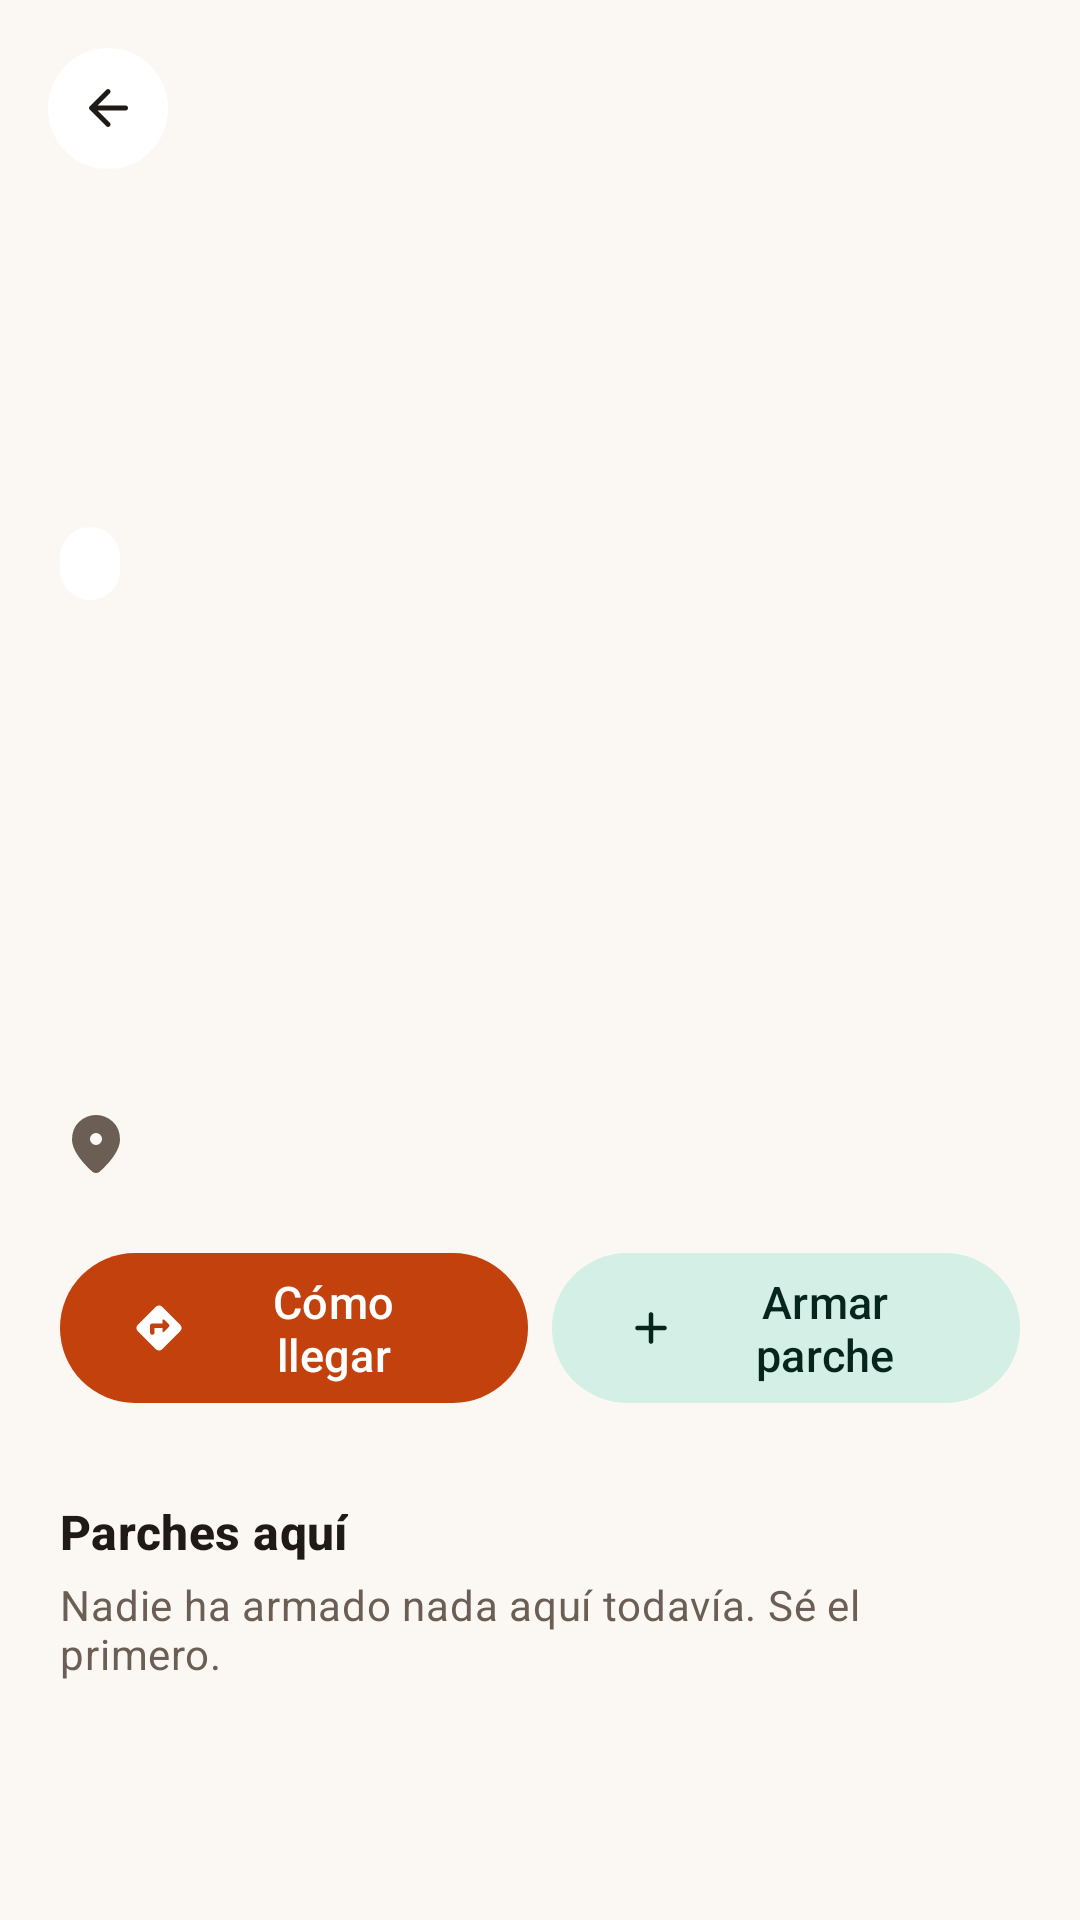

Icons on this 1080w x 1920h Android screen, each with the point to tap as [x,y]:
Atrás: [108,108]
